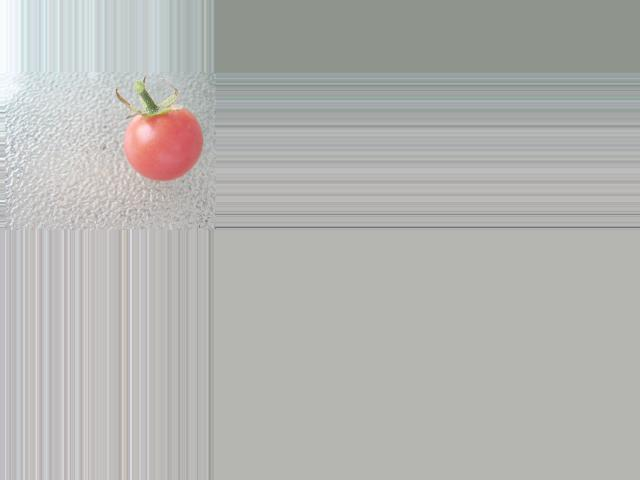tomato: (121, 108, 202, 182)
